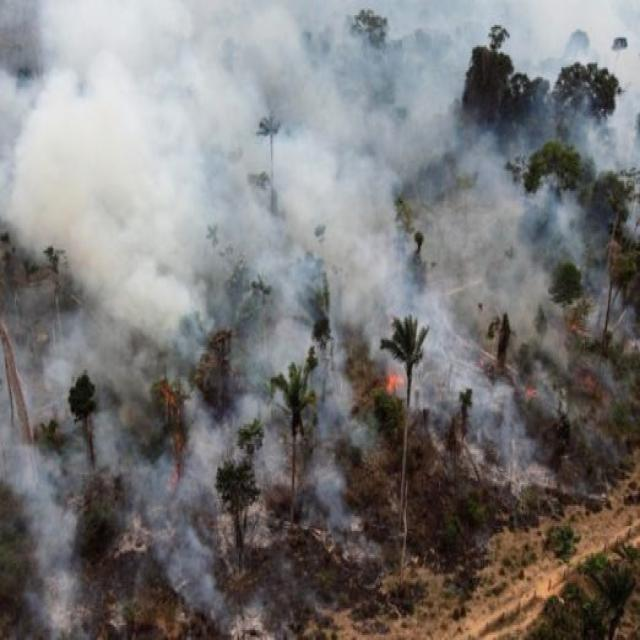Fire: (152, 354, 194, 496), (574, 364, 614, 416), (377, 367, 413, 408), (519, 363, 545, 415)
Smoke: (3, 0, 640, 640)
